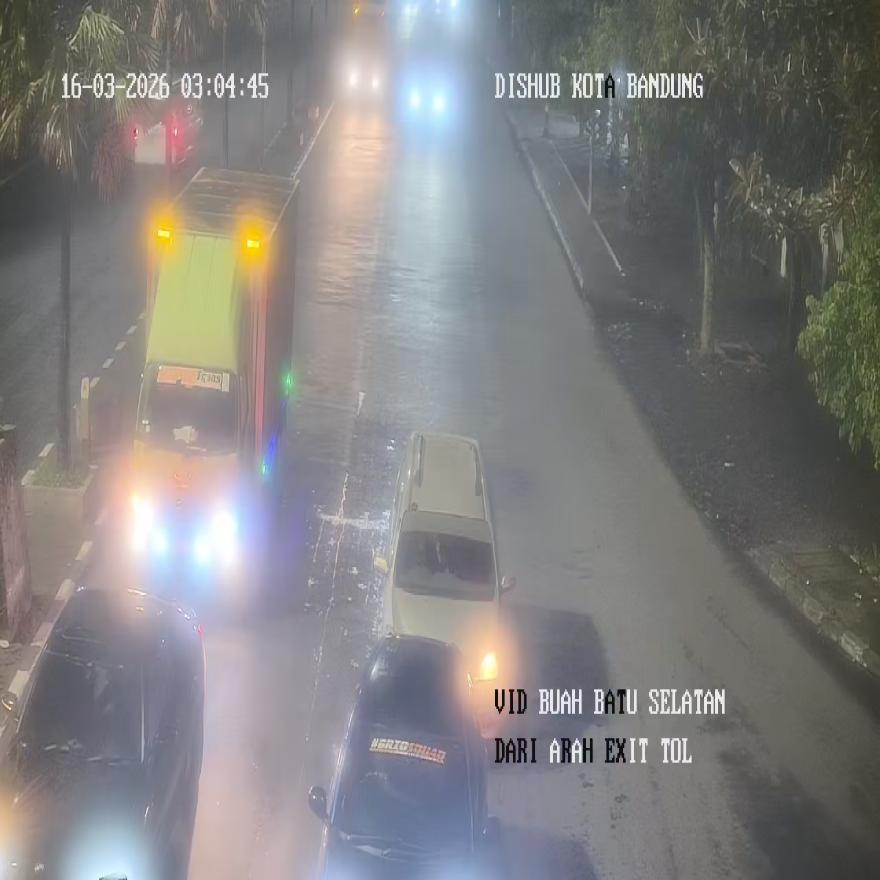Mobil: (0, 586, 205, 877), (309, 633, 501, 879), (374, 430, 514, 732)
Truk menengah: (126, 168, 300, 590)
